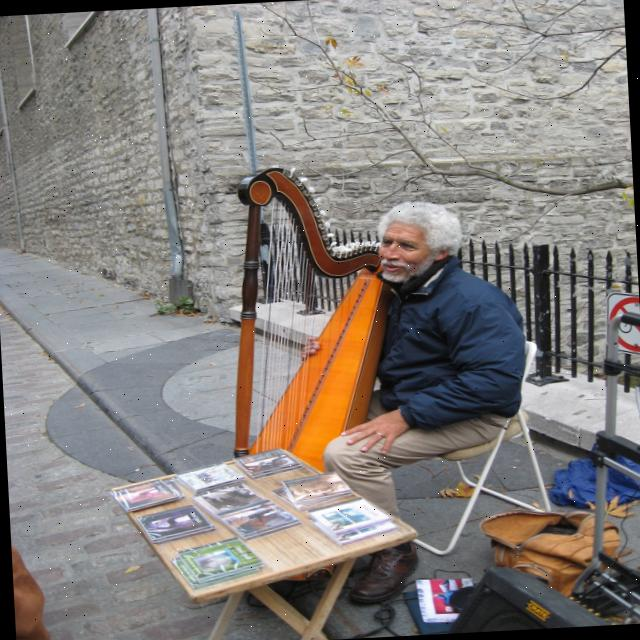harp: (207, 149, 406, 476)
